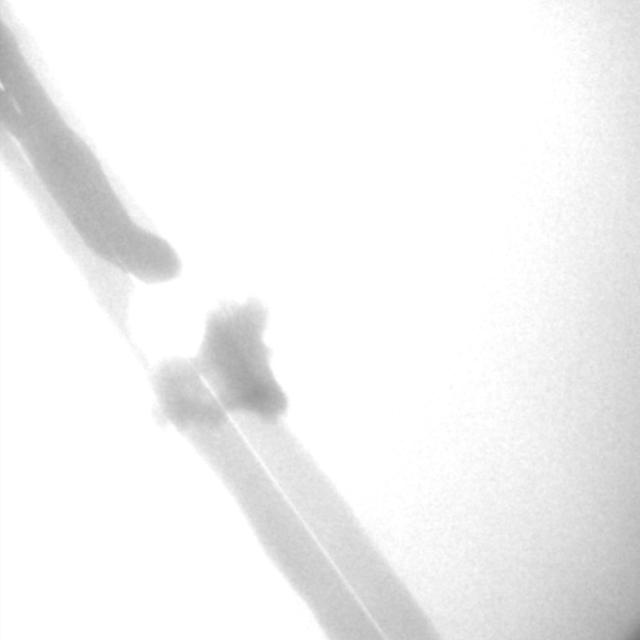broken arc: (129, 275, 385, 636)
